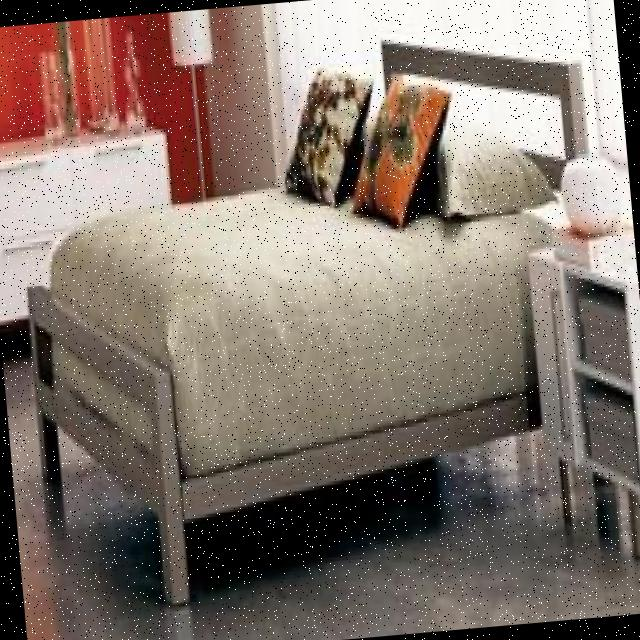Bed: (0, 4, 639, 630)
